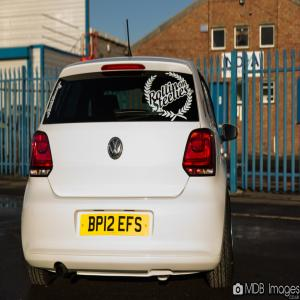Vehicle-registration-plate: (79, 214, 150, 236)
